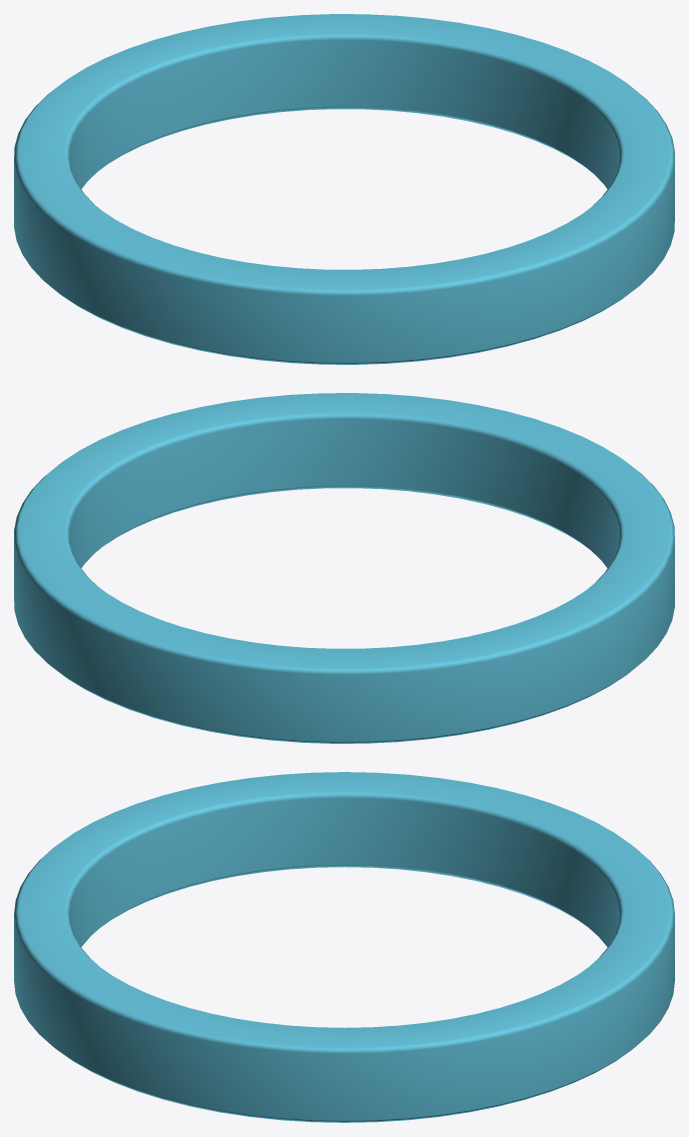
3 renders of one model, top to bottom at view 1: azimuth 30°, elevation 25°; view 2: azimuth 150°, elevation 25°; view 3: azimuth 270°, elevation 25°, orthographic.
Parts seen in each view (by area): view 1: seal_body; view 2: seal_body; view 3: seal_body.
Part boxes in pixels (bbox=[...]): seal_body: bbox=[14, 14, 674, 364]; seal_body: bbox=[14, 393, 674, 743]; seal_body: bbox=[14, 772, 674, 1122].
Size of the model in its own units: 0.083 by 0.0105 by 0.083.
